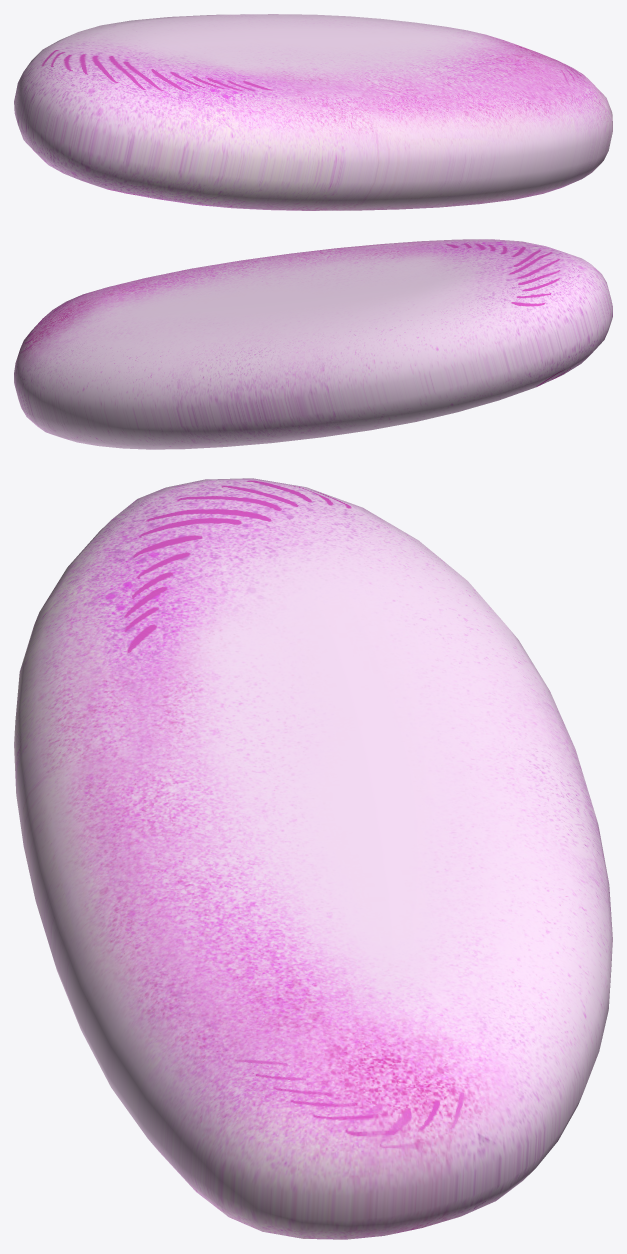
The model's file is Cloud_Maru_002.obj.
3 views of the same model, one above another, from view 1: azimuth 30°, elevation 25°; view 2: azimuth 150°, elevation 25°; view 3: azimuth 270°, elevation 25° (orthographic). The views are drawn at different scales.
Parts seen in each view (by area): view 1: Cloud_Maru_002; view 2: Cloud_Maru_002; view 3: Cloud_Maru_002.
Part boxes in pixels (x1,y1,x2,y2): Cloud_Maru_002: (14, 14, 612, 210); Cloud_Maru_002: (14, 239, 612, 449); Cloud_Maru_002: (14, 478, 612, 1239).
Size of the model in its own units: 0.5786 by 0.225 by 0.3274.
